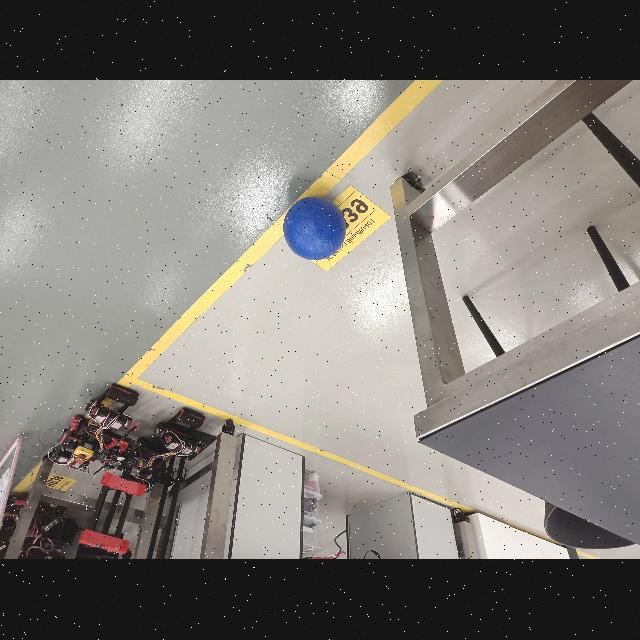B: (283, 197, 345, 261)
